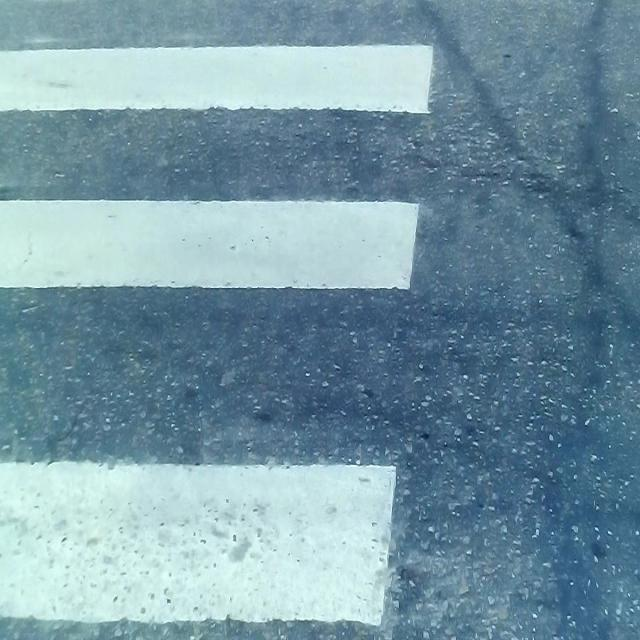crosswalk: (0, 0, 442, 640)
